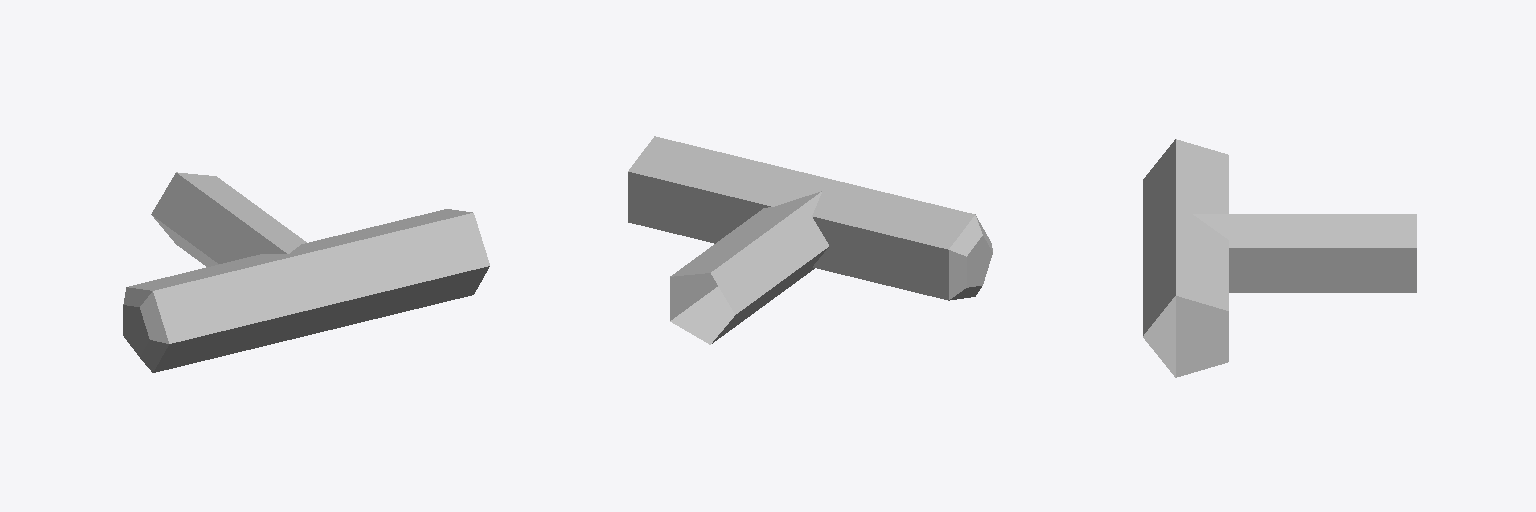
File: original-63.obj
3 views of the same model, side by side, from view 1: azimuth 30°, elevation 25°; view 2: azimuth 150°, elevation 25°; view 3: azimuth 270°, elevation 25° (orthographic).
Visible parts, largest first — view 1: BP1a_1_3/BP1a_1/mesh21/mesh21-geometry#mesh21-geometry; view 2: BP1a_1_3/BP1a_1/mesh21/mesh21-geometry#mesh21-geometry; view 3: BP1a_1_3/BP1a_1/mesh21/mesh21-geometry#mesh21-geometry.
Boxes of the visible parts, x1=… form: BP1a_1_3/BP1a_1/mesh21/mesh21-geometry#mesh21-geometry: x1=123, y1=172, x2=489, y2=372; BP1a_1_3/BP1a_1/mesh21/mesh21-geometry#mesh21-geometry: x1=628, y1=136, x2=992, y2=344; BP1a_1_3/BP1a_1/mesh21/mesh21-geometry#mesh21-geometry: x1=1143, y1=139, x2=1416, y2=377.
Bounding box in the file's own units: 0.0712 × 0.0169 × 0.0512.